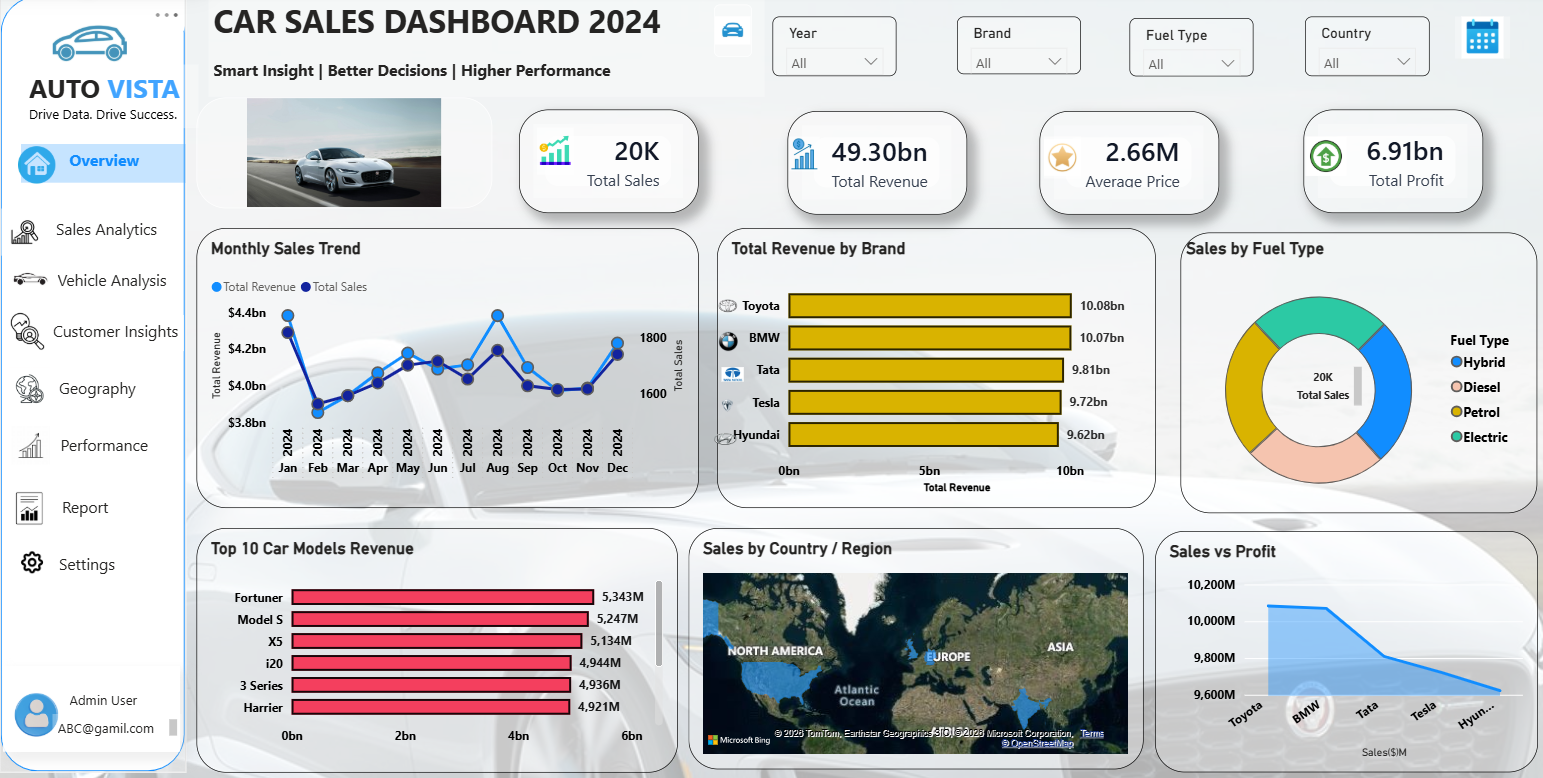

Layout of this report page (visuals, bound fields, positions):
{"tool":"powerbi","page":{"name":"Page 1","canvas":[1570,800],"ordinal":0},"visuals":[{"type":"cardVisual","fields":{"Data":["Calendar.Toatl Sales"]},"box":[527.4,117.2,182.5,105.4],"z":0},{"type":"lineChart","title":"Monthly Sales Trend","fields":{"Category":["Calendar.Month","Calendar.Date.Variation.Date Hierarchy.Year"],"Y":["Calendar.Total Revenue"],"Y2":["Calendar.Total Sales"]},"box":[200.3,237.9,510.4,284.6],"z":1000},{"type":"clusteredBarChart","fields":{"Category":["Cars.Brand"],"Y":["Calendar.Total Revenue"]},"box":[728.8,237.9,445.7,284.6],"z":2000},{"type":"donutChart","title":"  Sales by Fuel Type","fields":{"Category":["Sales.Fuel Type"],"Y":["Calendar.Total Sales"]},"box":[1200.5,242.3,362.7,285.1],"z":3000},{"type":"clusteredBarChart","title":"Top 10 Car Models Revenue","fields":{"Category":["Cars.Model"],"Y":["Calendar.Total Revenue"]},"box":[199.7,542.8,489.5,248.5],"z":4000},{"type":"filledMap","title":" Sales by Country / Region","fields":{"Category":["Sales.Country"]},"box":[700,543.2,462.5,245.5],"z":5000},{"type":"areaChart","title":"Sales vs Profit","fields":{"Category":["Cars.Brand"],"Y":["Calendar.Total Revenue"]},"box":[1173.5,546.4,389.6,245.5],"z":6000},{"type":"textbox","box":[212.2,0,565.4,104.5],"z":7000},{"type":"image","box":[725.4,11.1,38.4,53.5],"z":8000},{"type":"shape","box":[0,1.5,189.1,789.9],"z":9000},{"type":"image","box":[8.1,12.2,167.6,75.7],"z":10000},{"type":"textbox","box":[24.3,71.6,177.1,64.9],"z":11000},{"type":"textbox","box":[51.6,222.1,127.6,38.4],"z":12000},{"type":"image","box":[17.6,154.1,37.8,39.2],"z":13000},{"type":"textbox","box":[21.6,152.7,167.6,39.2],"z":14000},{"type":"textbox","box":[52.9,275,124.4,39.2],"z":15000},{"type":"textbox","box":[48.7,325.8,137.9,36.5],"z":16000},{"type":"image","box":[8.1,323.1,40.6,39.2],"z":17000},{"type":"textbox","box":[55.4,383.9,90.6,39.2],"z":18000},{"type":"image","box":[5.4,379.8,48.7,43.3],"z":19000},{"type":"image","box":[8.1,439.3,47.3,39.2],"z":20000},{"type":"textbox","box":[56.8,442,104.1,36.5],"z":21000},{"type":"image","box":[6.8,502.8,47.3,39.2],"z":22000},{"type":"textbox","box":[58.1,504.2,75.7,36.5],"z":23000},{"type":"image","box":[8.1,558.3,50,39.2],"z":24000},{"type":"textbox","box":[55.4,562.3,75.7,36.5],"z":25000},{"type":"image","box":[5.4,270.3,50,39.2],"z":26000},{"type":"image","box":[1.4,214.9,47.3,54.1],"z":27000},{"type":"shape","box":[3,683.1,180,87.1],"z":28000},{"type":"image","box":[10.7,693.8,52.9,77.1],"z":29000},{"type":"textbox","box":[53.4,731.9,131.4,27.1],"z":30000},{"type":"textbox","box":[65.6,702.9,105.7,28.6],"z":31000},{"type":"image","box":[546.4,136.2,37.1,48],"z":32000},{"type":"cardVisual","fields":{"Data":["Calendar.Total Revenue"]},"box":[799.8,118.8,182.5,105.4],"z":33000},{"type":"image","box":[801.4,144.1,31.3,35.1],"z":34000},{"type":"cardVisual","fields":{"Data":["Calendar.Average Price"]},"box":[1056.4,118.8,182.5,105.4],"z":35000},{"type":"cardVisual","fields":{"Data":["Calendar.Total Profit"]},"box":[1325.6,117.2,182.5,105.4],"z":36000},{"type":"image","box":[1061.1,144.1,37.1,42.5],"z":37000},{"type":"image","box":[1327.2,144.1,42.5,39.8],"z":38000},{"type":"image","box":[728.9,343.1,22.7,19.7],"z":39000},{"type":"image","box":[733.4,376.6,22.7,19.7],"z":40000},{"type":"image","box":[722.8,407.1,33.3,22.7],"z":41000},{"type":"image","box":[725.8,442.2,22.7,19.7],"z":42000},{"type":"image","box":[728.9,309.5,22.7,19.7],"z":43000},{"type":"slicer","fields":{"Values":["Calendar.Year"]},"box":[785.5,22.2,126.3,60.4],"z":44000},{"type":"slicer","fields":{"Values":["Cars.Brand"]},"box":[972.4,22.2,125.7,58.6],"z":45000},{"type":"slicer","fields":{"Values":["Sales.Fuel Type"]},"box":[1148.2,23.8,126.3,59],"z":46000},{"type":"slicer","fields":{"Values":["Sales.Country"]},"box":[1327.2,22.2,126.5,60.7],"z":47000},{"type":"image","box":[1479.2,22.2,55.7,42.9],"z":48000},{"type":"textbox","box":[1308.2,373.8,81.3,56.3],"z":49000},{"type":"image","box":[199.7,105.2,300.4,112.8],"z":50000}]}

Visuals, with their boxes on the page's 1570x800 design canvas (x1, y1, x2, y2). These are canvas units, not pixel positions in the 1543x778 screenshot, which may show the page scaled, cropped or inside an application window:
cardVisual - Calendar.Toatl Sales: rect(527, 117, 710, 223)
"Monthly Sales Trend" lineChart: rect(200, 238, 711, 522)
clusteredBarChart - Cars.Brand x Calendar.Total Revenue: rect(729, 238, 1174, 522)
"  Sales by Fuel Type" donutChart: rect(1200, 242, 1563, 527)
"Top 10 Car Models Revenue" clusteredBarChart: rect(200, 543, 689, 791)
" Sales by Country / Region" filledMap: rect(700, 543, 1162, 789)
"Sales vs Profit" areaChart: rect(1174, 546, 1563, 792)
textbox: rect(212, 0, 778, 104)
image: rect(725, 11, 764, 65)
shape: rect(0, 2, 189, 791)
image: rect(8, 12, 176, 88)
textbox: rect(24, 72, 201, 136)
textbox: rect(52, 222, 179, 260)
image: rect(18, 154, 55, 193)
textbox: rect(22, 153, 189, 192)
textbox: rect(53, 275, 177, 314)
textbox: rect(49, 326, 187, 362)
image: rect(8, 323, 49, 362)
textbox: rect(55, 384, 146, 423)
image: rect(5, 380, 54, 423)
image: rect(8, 439, 55, 478)
textbox: rect(57, 442, 161, 478)
image: rect(7, 503, 54, 542)
textbox: rect(58, 504, 134, 541)
image: rect(8, 558, 58, 598)
textbox: rect(55, 562, 131, 599)
image: rect(5, 270, 55, 310)
image: rect(1, 215, 49, 269)
shape: rect(3, 683, 183, 770)
image: rect(11, 694, 64, 771)
textbox: rect(53, 732, 185, 759)
textbox: rect(66, 703, 171, 732)
image: rect(546, 136, 584, 184)
cardVisual - Calendar.Total Revenue: rect(800, 119, 982, 224)
image: rect(801, 144, 833, 179)
cardVisual - Calendar.Average Price: rect(1056, 119, 1239, 224)
cardVisual - Calendar.Total Profit: rect(1326, 117, 1508, 223)
image: rect(1061, 144, 1098, 187)
image: rect(1327, 144, 1370, 184)
image: rect(729, 343, 752, 363)
image: rect(733, 377, 756, 396)
image: rect(723, 407, 756, 430)
image: rect(726, 442, 748, 462)
image: rect(729, 310, 752, 329)
slicer - Calendar.Year: rect(786, 22, 912, 83)
slicer - Cars.Brand: rect(972, 22, 1098, 81)
slicer - Sales.Fuel Type: rect(1148, 24, 1274, 83)
slicer - Sales.Country: rect(1327, 22, 1454, 83)
image: rect(1479, 22, 1535, 65)
textbox: rect(1308, 374, 1390, 430)
image: rect(200, 105, 500, 218)
